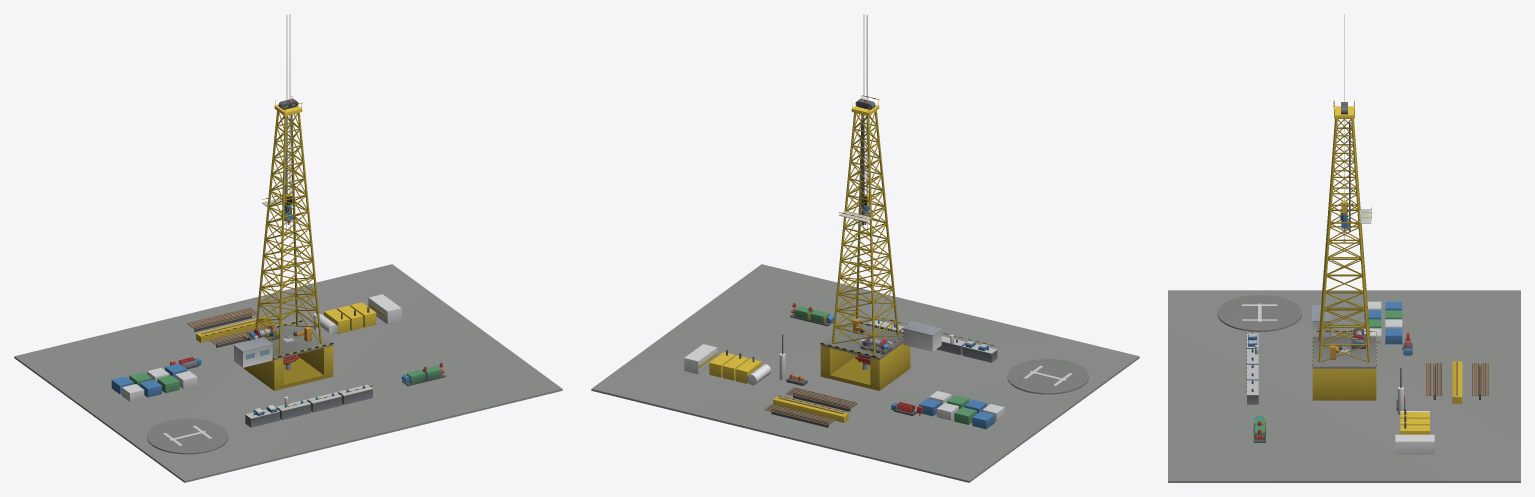
File: heli_high.glb
3 views of the same model, side by side, from view 1: azimuth 30°, elevation 25°; view 2: azimuth 150°, elevation 25°; view 3: azimuth 270°, elevation 25° (orthographic). The views are drawn at different scales.
Parts seen in each view (by area): view 1: site__pad, mast__mast, site__modules, mast__substructure, mudtanks__tanks, mast__floor, pipehandling__racker, generators__gensets, mast__doghouse, pipehandling__catwalk, generators__vfd, block__travelling; view 2: site__pad, mast__mast, site__modules, mast__substructure, pipehandling__racker, mast__floor, generators__gensets, mudtanks__tanks, mast__doghouse, pipehandling__catwalk, generators__vfd, block__travelling; view 3: site__pad, mast__mast, site__modules, mast__substructure, mast__floor, pipehandling__racker, generators__vfd, mudtanks__tanks, generators__gensets, pipehandling__catwalk, mast__doghouse.
Boxes of the visible parts, x1,y1,x2,y2 form: site__pad: (14,264,562,482); mast__mast: (255,111,322,353); site__modules: (111,363,228,454); mast__substructure: (243,338,333,390); mudtanks__tanks: (245,384,372,427); mast__floor: (243,320,333,359); pipehandling__racker: (187,307,276,347); generators__gensets: (324,302,376,333); mast__doghouse: (233,337,273,367); pipehandling__catwalk: (196,316,271,342); generators__vfd: (368,294,401,324); block__travelling: (284,14,292,205); site__pad: (591,264,1139,482); mast__mast: (831,111,899,353); site__modules: (919,358,1088,429); mast__substructure: (820,343,910,390); pipehandling__racker: (764,387,857,427); mast__floor: (820,320,903,359); generators__gensets: (709,349,761,383); mudtanks__tanks: (869,317,997,362); mast__doghouse: (902,321,942,351); pipehandling__catwalk: (773,395,848,422); generators__vfd: (684,344,717,374); block__travelling: (863,14,869,205); site__pad: (1168,290,1520,482); mast__mast: (1318,118,1370,362); site__modules: (1217,295,1402,344); mast__substructure: (1312,368,1376,400); mast__floor: (1312,331,1376,368); pipehandling__racker: (1426,362,1488,399); generators__vfd: (1395,434,1434,454); mudtanks__tanks: (1246,330,1258,404); generators__gensets: (1400,409,1429,434); pipehandling__catwalk: (1452,361,1462,403); mast__doghouse: (1312,305,1331,336).
Size of the model in its own units: 64 by 58.24 by 50.
